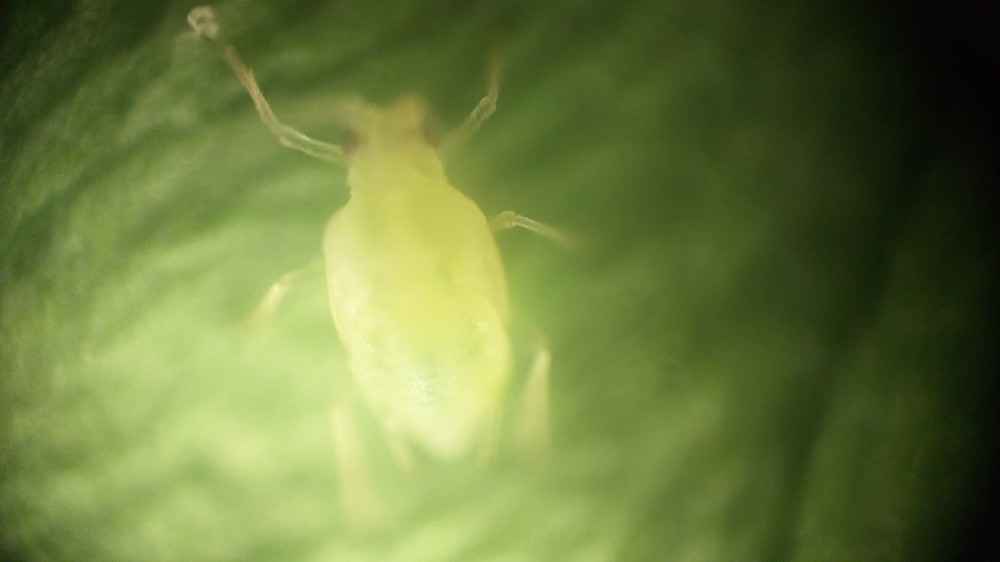Pulgon: (197, 50, 634, 529)
